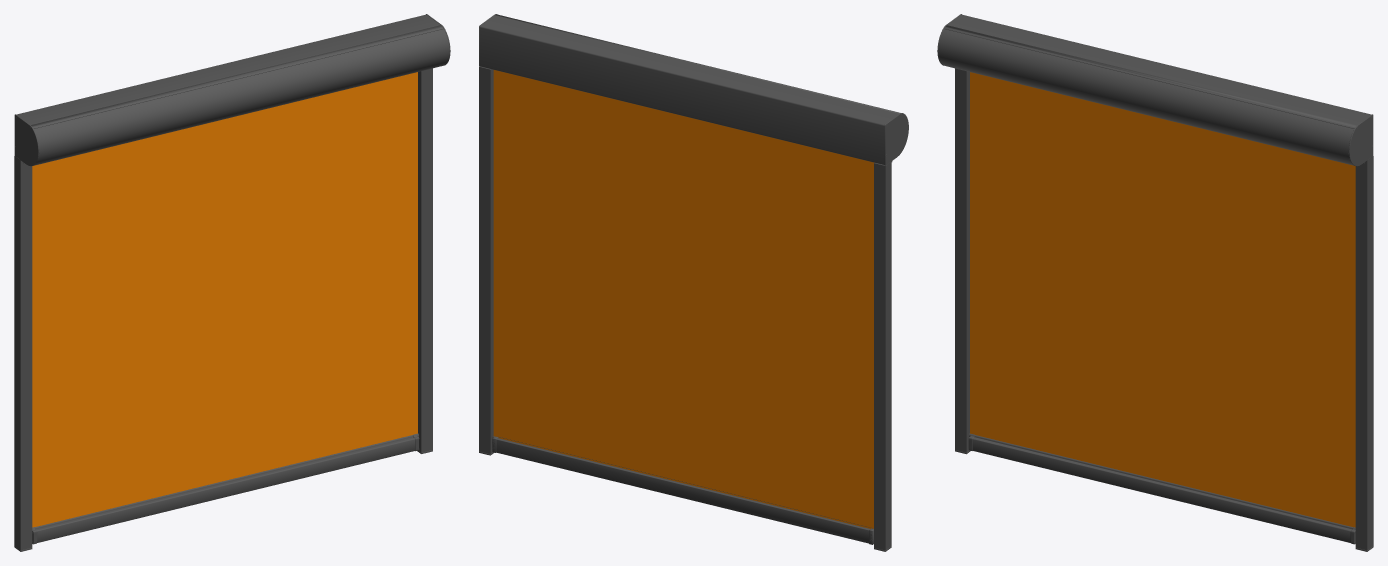
Rendered from VSZ_rund.glb.
3 renders of one model, left to right at view 1: azimuth 30°, elevation 25°; view 2: azimuth 150°, elevation 25°; view 3: azimuth 330°, elevation 25°, orthographic.
Parts seen in each view (by area): view 1: Plane.001, VS-Z_FME_HCN_Contra.004, Cube.001, VS-Z_FME90ų_Contra.004, Plane.002, Cube.002, VS-Z_FME_HCN_Contra.003, Cylinder.004; view 2: Plane.001, Plane.002, Cube.001, VS-Z_FME90ų_Contra.004, Cube.002, Cylinder.004, VS-Z_FME_HCN_Contra.003; view 3: Plane.001, VS-Z_FME_HCN_Contra.004, Cube.002, VS-Z_FME90ų_Contra.004, Plane.002, Cube.001, VS-Z_FME_HCN_Contra.003, Cylinder.003.
Boxes of the visible parts, x1,y1,x2,y2 form: Plane.001: [32, 72, 417, 527]; VS-Z_FME_HCN_Contra.004: [23, 29, 449, 165]; Cube.001: [14, 156, 32, 550]; VS-Z_FME90ų_Contra.004: [35, 435, 415, 542]; Plane.002: [16, 14, 440, 124]; Cube.002: [418, 68, 432, 452]; VS-Z_FME_HCN_Contra.003: [31, 25, 443, 128]; Cylinder.004: [14, 114, 39, 166]; Plane.001: [493, 70, 874, 528]; Plane.002: [480, 15, 898, 164]; Cube.001: [874, 161, 891, 550]; VS-Z_FME90ų_Contra.004: [496, 436, 871, 543]; Cube.002: [479, 66, 493, 453]; Cylinder.004: [884, 113, 908, 165]; VS-Z_FME_HCN_Contra.003: [495, 14, 900, 113]; Plane.001: [970, 72, 1355, 527]; VS-Z_FME_HCN_Contra.004: [938, 29, 1364, 165]; Cube.002: [1355, 156, 1373, 550]; VS-Z_FME90ų_Contra.004: [972, 435, 1352, 542]; Plane.002: [947, 14, 1371, 124]; Cube.001: [955, 68, 969, 452]; VS-Z_FME_HCN_Contra.003: [944, 25, 1356, 128]; Cylinder.003: [1348, 114, 1373, 166].
Bounding box in the file's own units: 1.99 × 2 × 0.2006.
3 materials, 1 textured.
